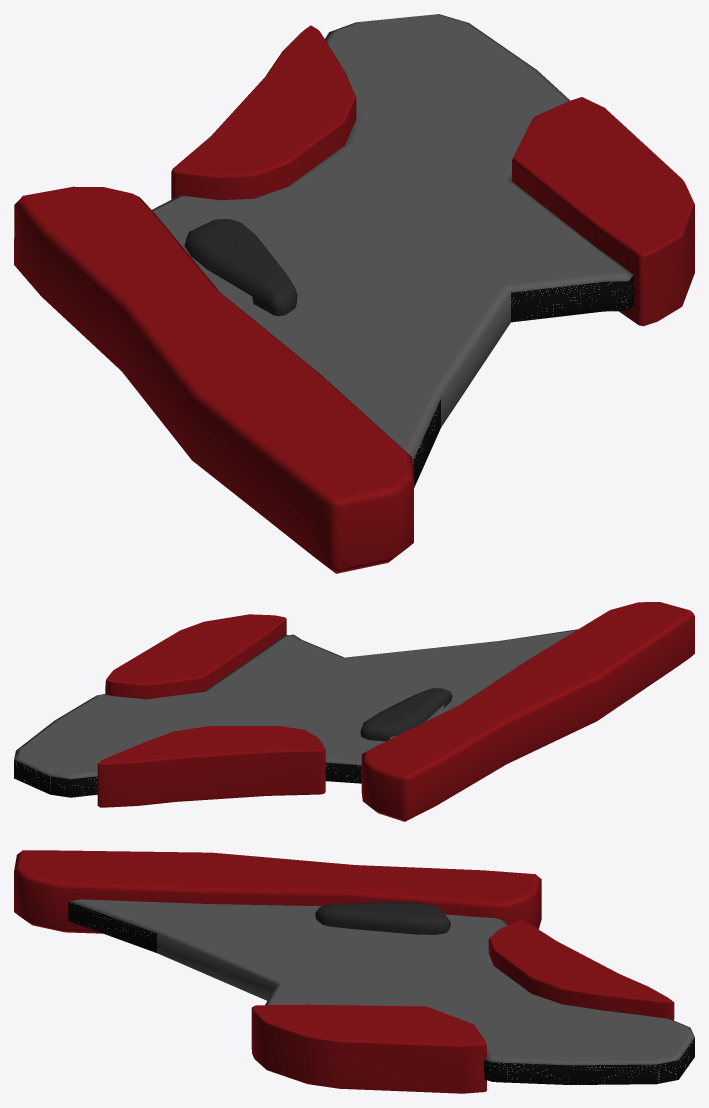
Rendered from Spaceship_main_03_Wing_R.fbx.
3 renders of one model, top to bottom at view 1: azimuth 30°, elevation 25°; view 2: azimuth 150°, elevation 25°; view 3: azimuth 270°, elevation 25°, orthographic. The views are drawn at different scales.
Visible parts, largest first — view 1: Spaceship_main_03_Wing_R; view 2: Spaceship_main_03_Wing_R; view 3: Spaceship_main_03_Wing_R.
Part boxes in pixels (x1=…): Spaceship_main_03_Wing_R: x1=14, y1=14, x2=694, y2=573; Spaceship_main_03_Wing_R: x1=14, y1=602, x2=694, y2=821; Spaceship_main_03_Wing_R: x1=14, y1=850, x2=694, y2=1093.
Size of the model in its own units: 226 by 26.61 by 323.
